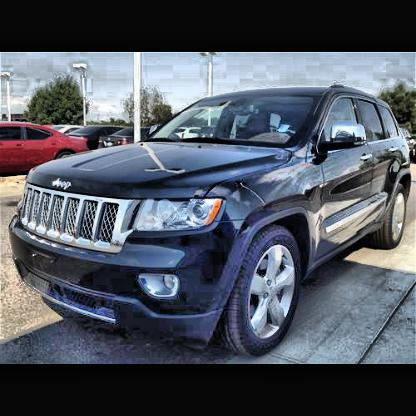Jeep Grand Cherokee SUV 2012: (12, 88, 414, 357)
